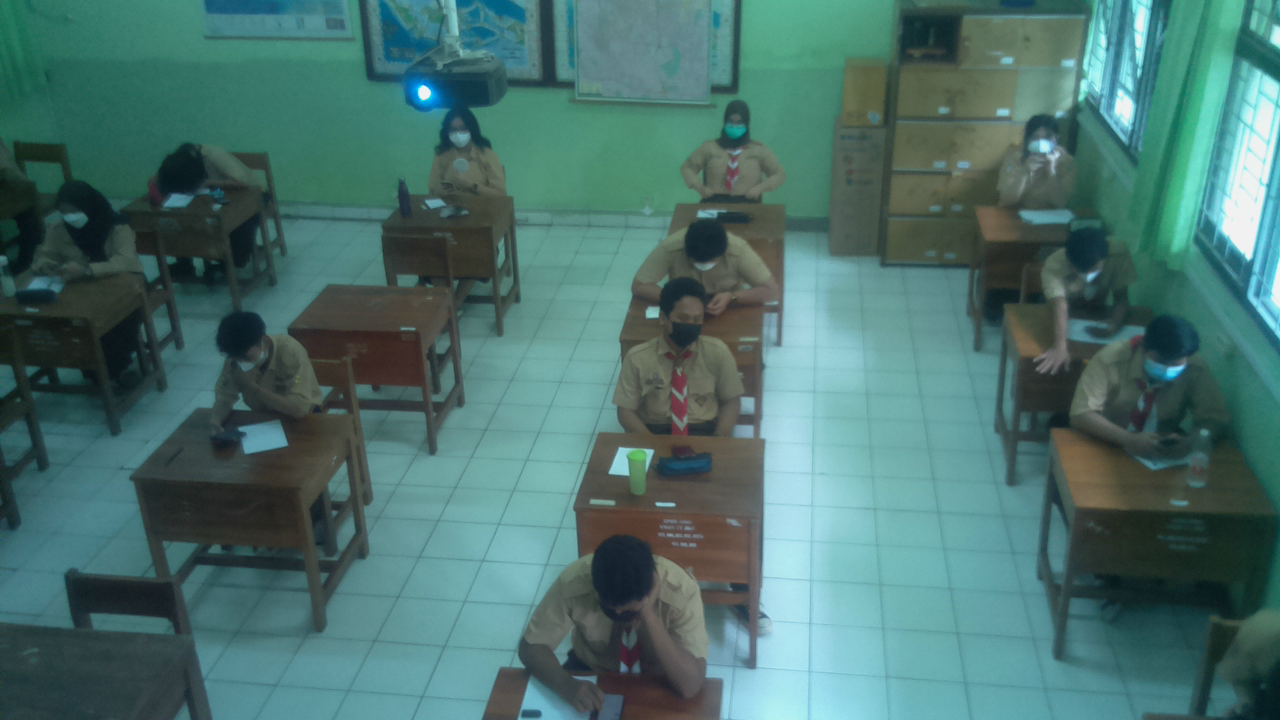Student: (551, 529, 701, 669), (623, 285, 734, 418), (1089, 319, 1206, 435), (213, 309, 310, 409), (37, 185, 127, 274), (655, 215, 758, 292), (699, 99, 774, 199), (1001, 115, 1079, 210), (1045, 227, 1131, 309), (149, 141, 248, 194), (429, 119, 495, 194)
